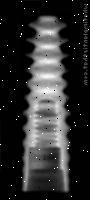Anthogyr: (21, 13, 71, 193)
